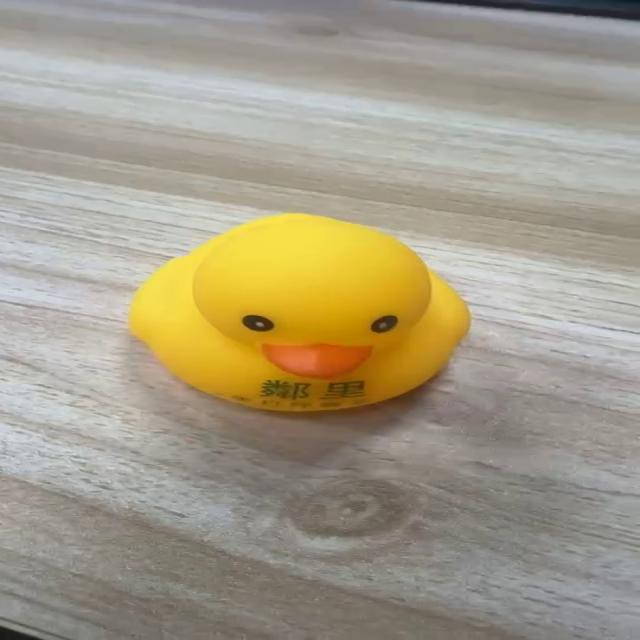yellow_duck: (126, 211, 472, 413)
